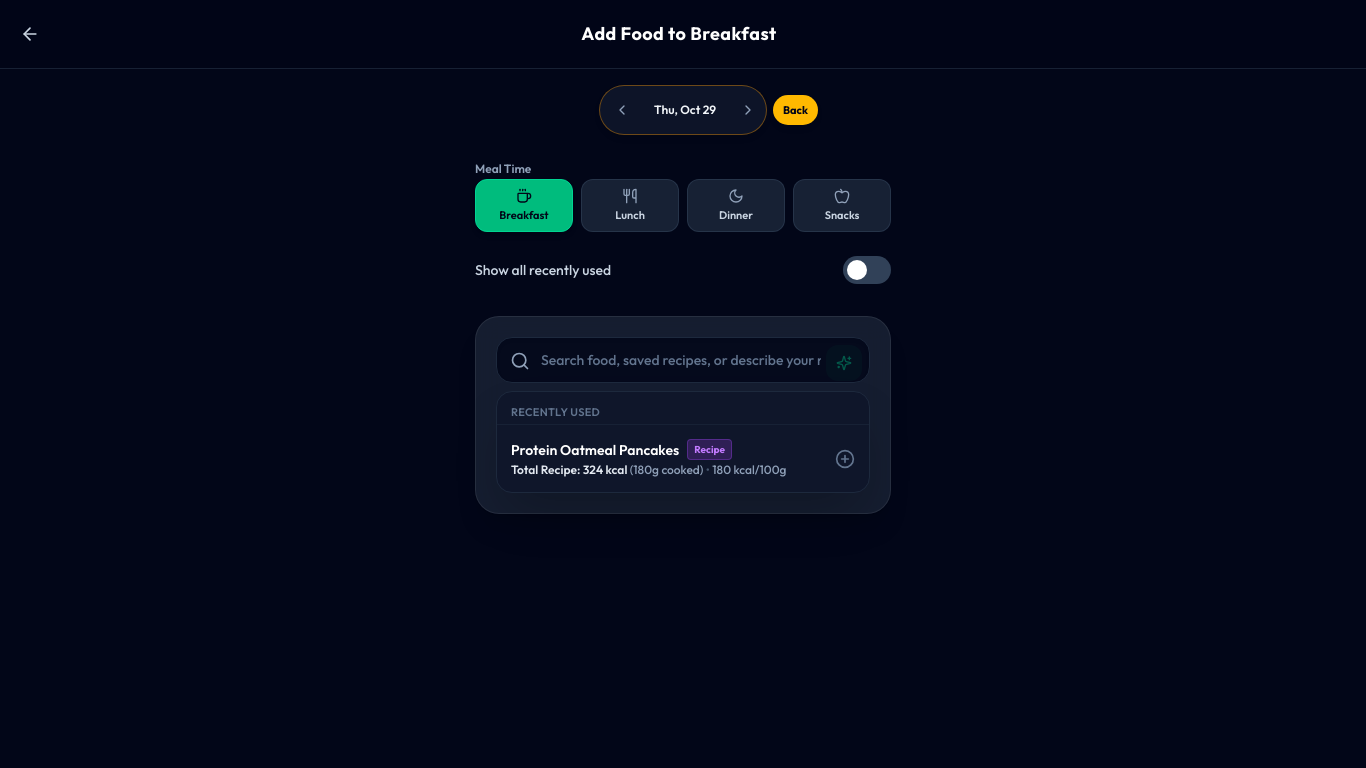
AddFoodModal - Pre-filled Recently Used Foods by Meal Type › updates pre-filled items when user switches meal type pill from Breakfast to Lunch
Expected: the text "Protein Oatmeal Pancakes" is shown, [511, 440, 679, 460]
Expected: the text "Roasted Turkey Breast" is not shown
Click Lunch pill
Click the button "Lunch" at coordinates (630, 205), box [581, 179, 679, 232]
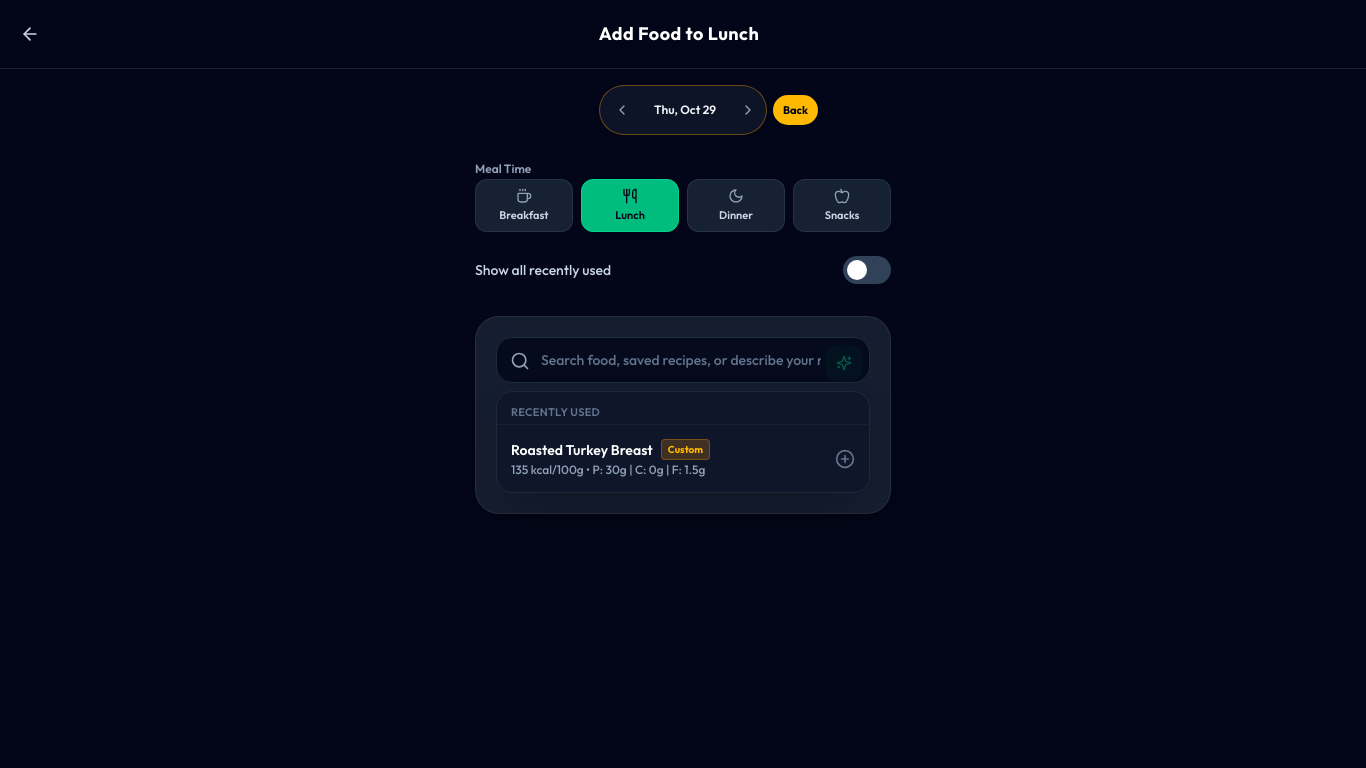
Expected: the text "Roasted Turkey Breast" is shown, [511, 440, 653, 460]
Expected: the button "Protein Oatmeal Pancakes" is gone
